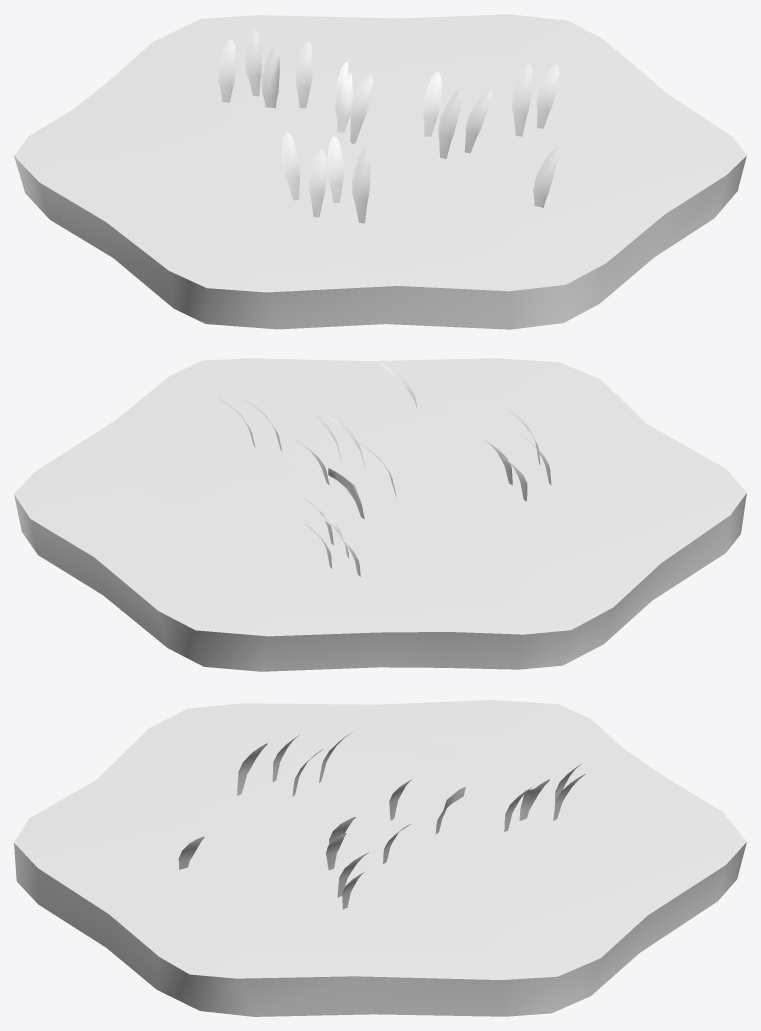
File: Prairie_Landscape00.fbx
The picture shows the model from 3 angles, top to bottom: view 1: azimuth 30°, elevation 25°; view 2: azimuth 150°, elevation 25°; view 3: azimuth 270°, elevation 25°; orthographic projection.
Parts seen in each view (by area): view 1: Prarie_Landscape00; view 2: Prarie_Landscape00; view 3: Prarie_Landscape00.
Boxes of the visible parts, x1,y1,x2,y2 form: Prarie_Landscape00: (14,14,746,329); Prarie_Landscape00: (14,358,746,671); Prarie_Landscape00: (14,700,746,1016).
Bounding box in the file's own units: 0.9199 × 0.1611 × 1.02.
